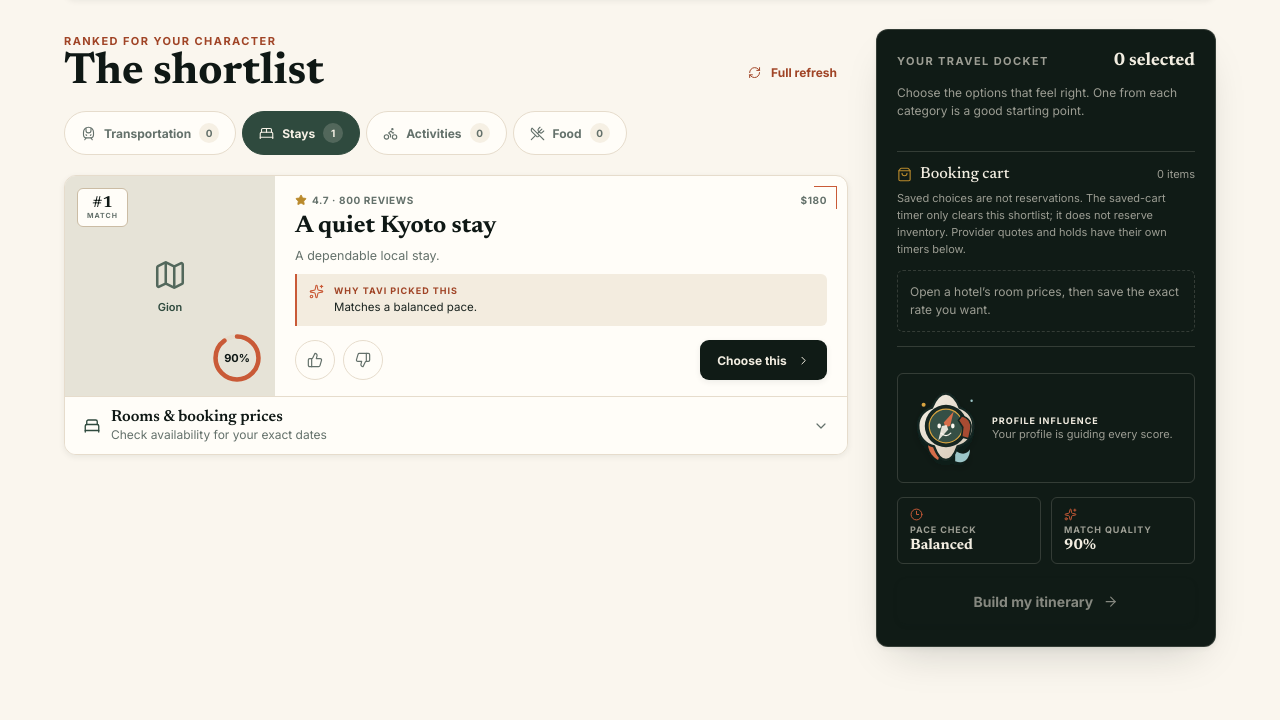
records a dislike through the thumbs-down control
(page scrolled)
Click the button named "Not my thing: A quiet Kyoto stay".
click(363, 360)  # box [343,340,383,380]
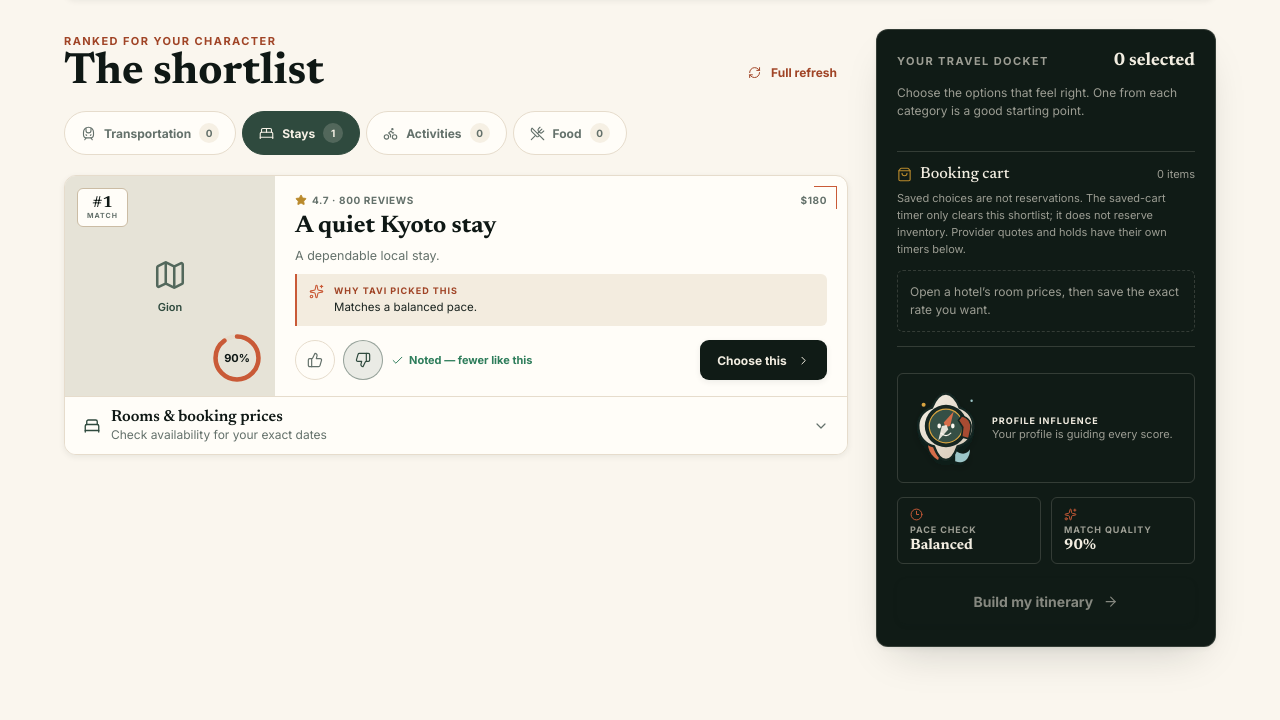
Expected: the text "Noted — fewer like this" is shown, [391,353,532,367]
